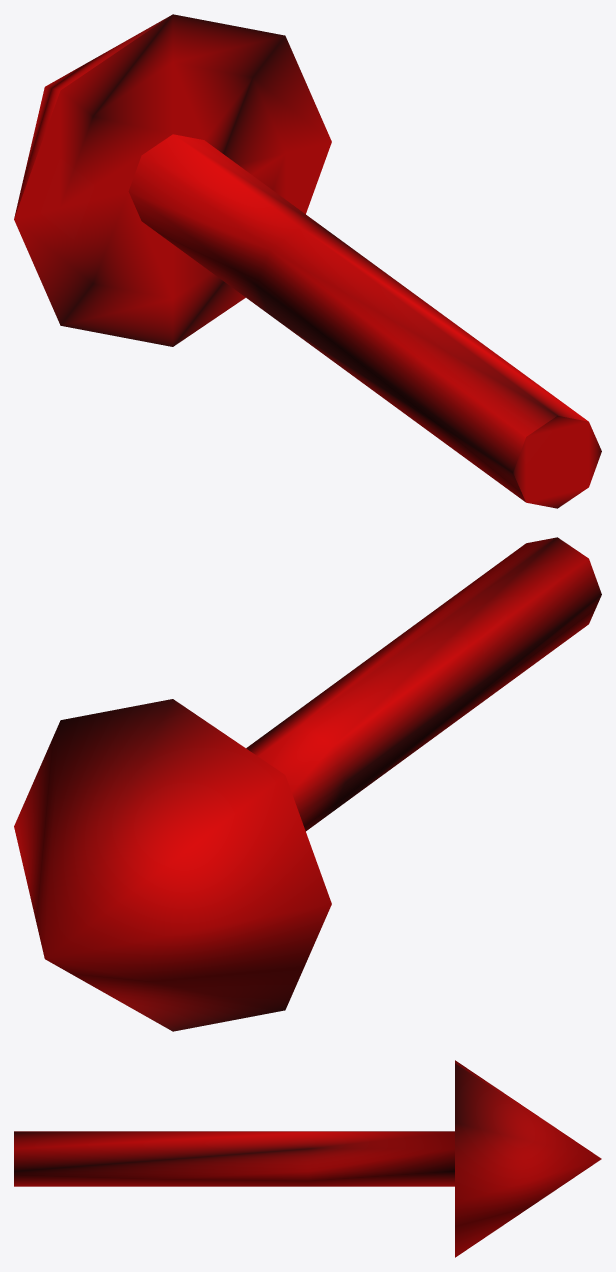
Rendered from arrow_forward.glb.
The picture shows the model from 3 angles, top to bottom: view 1: azimuth 30°, elevation 25°; view 2: azimuth 150°, elevation 25°; view 3: azimuth 270°, elevation 25°; orthographic projection. The views are drawn at different scales.
Parts seen in each view (by area): view 1: Cylinder; view 2: Cylinder; view 3: Cylinder.
Part boxes in pixels (left/top/right/bottom): Cylinder: left=14, top=14, right=601, bottom=508; Cylinder: left=14, top=537, right=601, bottom=1031; Cylinder: left=14, top=1060, right=601, bottom=1257.
Bounding box in the file's own units: 0.0716 × 0.0716 × 0.2.
